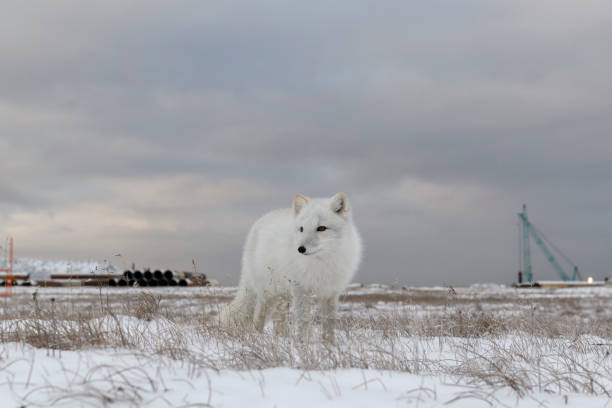arcticfox: (290, 209, 342, 271)
